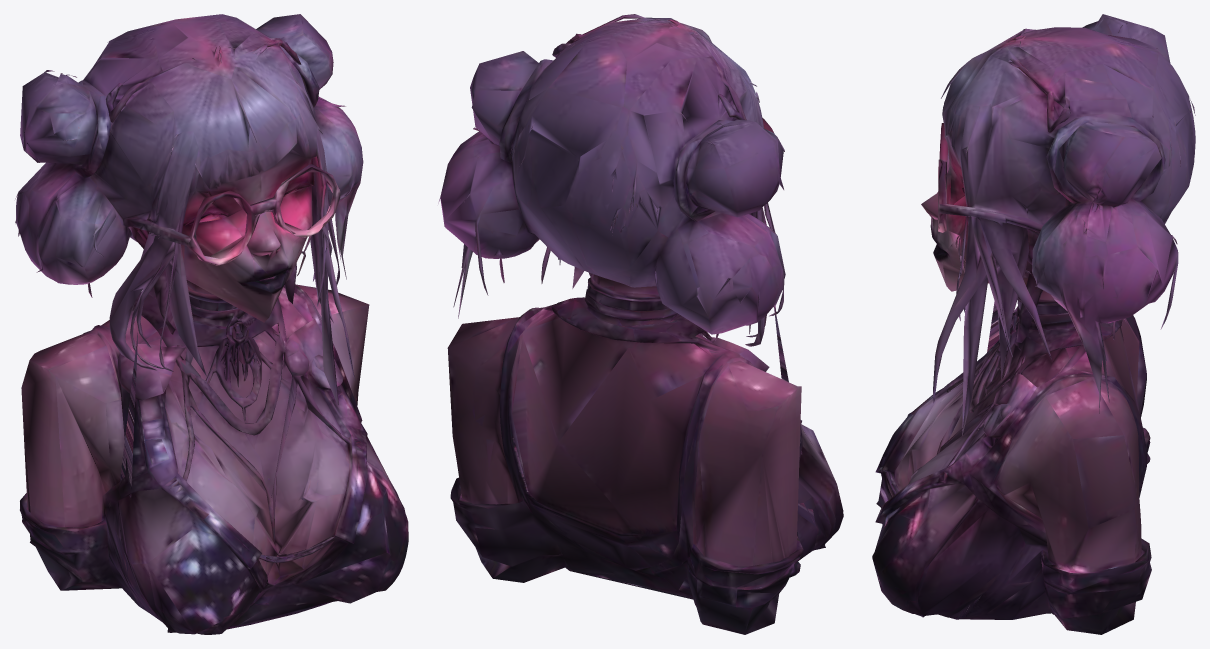
The model's file is girl-26.glb.
3 views of the same model, side by side, from view 1: azimuth 30°, elevation 25°; view 2: azimuth 150°, elevation 25°; view 3: azimuth 270°, elevation 25° (orthographic). The views are drawn at different scales.
Visible parts, largest first — view 1: node_0; view 2: node_0; view 3: node_0.
Part boxes in pixels (box(x1,y1,x2,y2)): node_0: box(15, 14, 408, 634); node_0: box(438, 14, 843, 634); node_0: box(872, 14, 1195, 634).
Size of the model in its own units: 0.6824 by 1.06 by 0.5768.
1 material, 1 textured.
